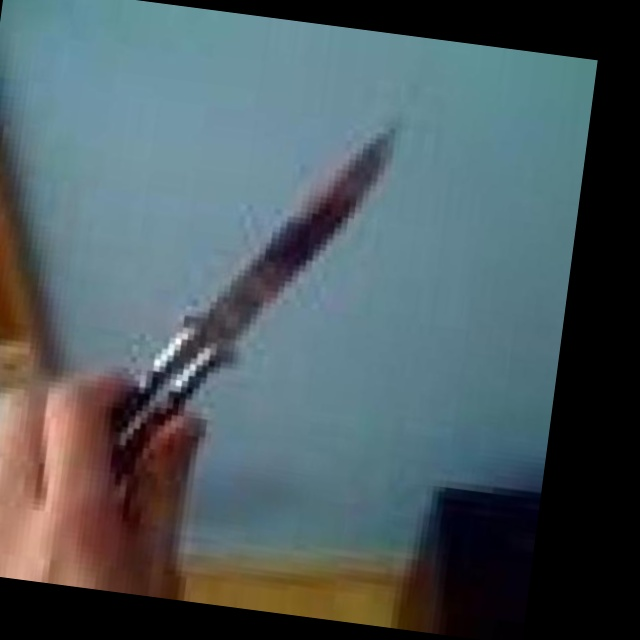Sharp-Object: (110, 103, 395, 511)
